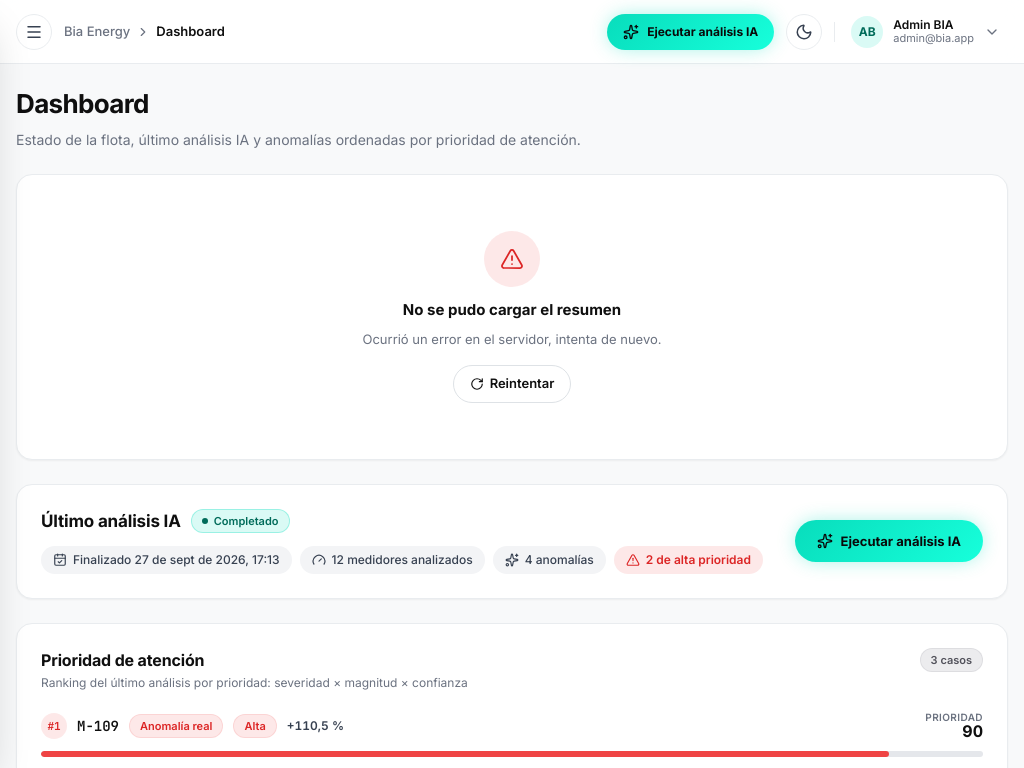
DashboardPage › shows a retryable error when the summary fails
Expected: the text "No se pudo cargar el resumen" is shown, [403,299,621,322]
Click the button "Reintentar": (512, 384) [453,365,571,402]
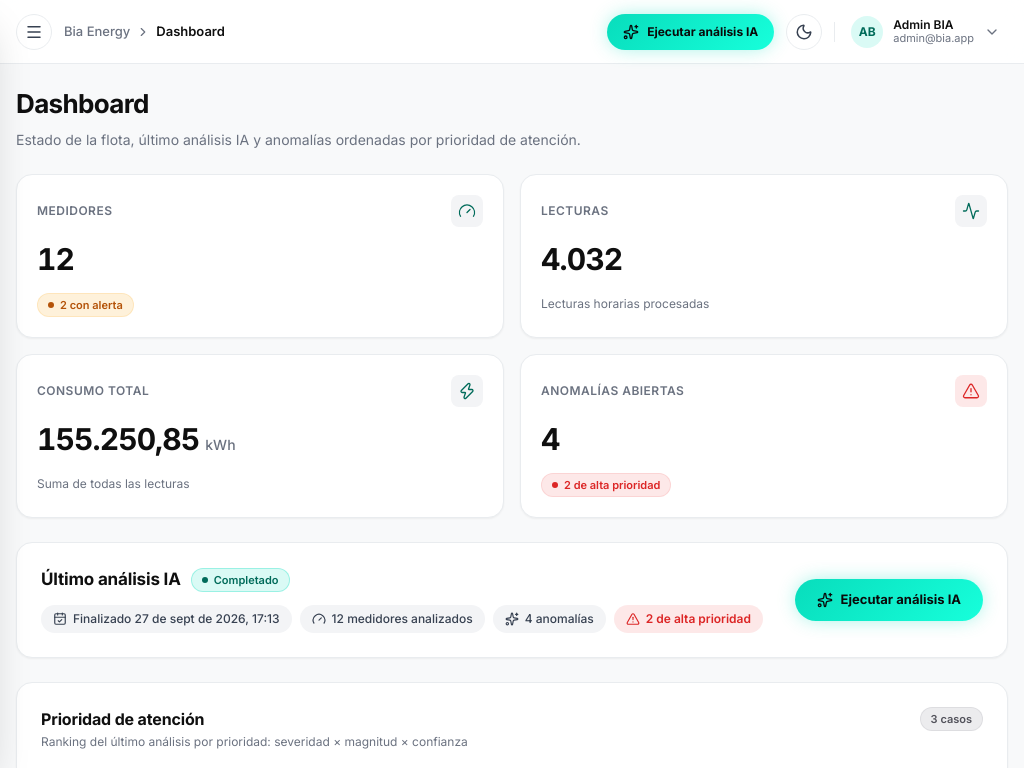
Now the text "155.250,85" is shown, box [37,417,199,462]
